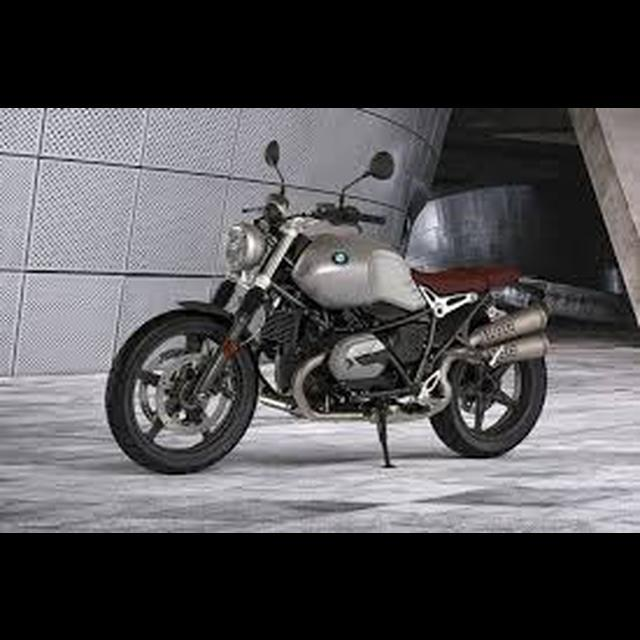motorcycle: (105, 137, 554, 479)
